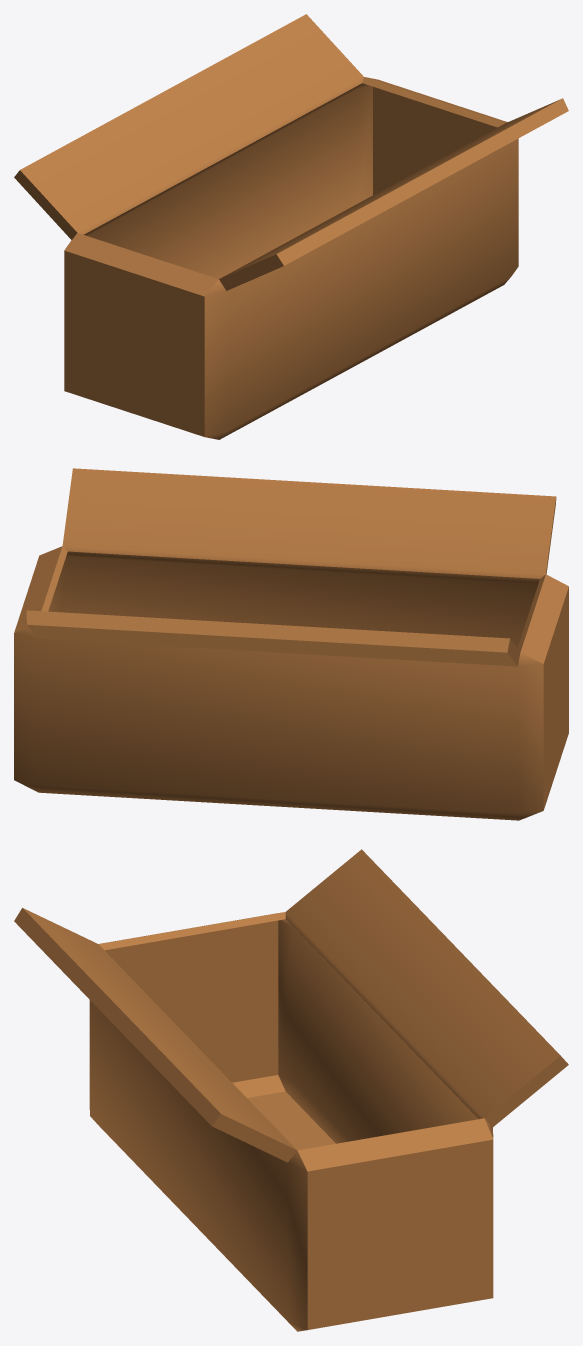
The picture shows the model from 3 angles, top to bottom: view 1: azimuth 30°, elevation 25°; view 2: azimuth 150°, elevation 25°; view 3: azimuth 270°, elevation 25°; orthographic projection. The views are drawn at different scales.
Parts seen in each view (by area): view 1: box5; view 2: box5; view 3: box5.
Part boxes in pixels (x1,y1,x2,y2): box5: [14, 14, 568, 439]; box5: [14, 468, 568, 820]; box5: [14, 849, 568, 1331].
Bounding box in the file's own units: 361 × 146 × 318.
